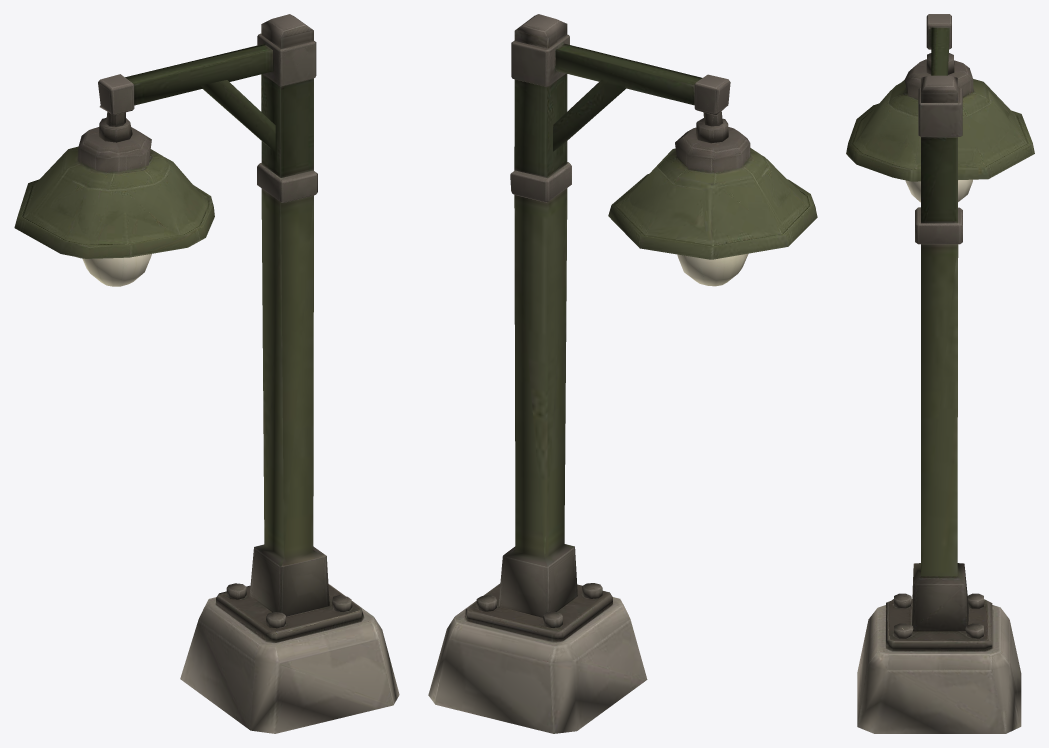
Rendered from streetlamp.glb.
3 renders of one model, left to right at view 1: azimuth 30°, elevation 25°; view 2: azimuth 150°, elevation 25°; view 3: azimuth 270°, elevation 25°, orthographic. The views are drawn at different scales.
Bounding box in the file's own units: 0.5039 × 0.9517 × 0.2632.
Materials: 1 (1 with a texture image).
